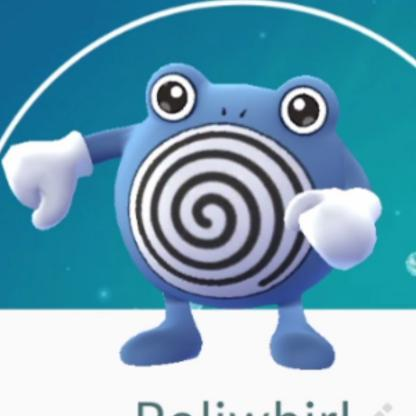Poliwhirl: (6, 71, 384, 381)
